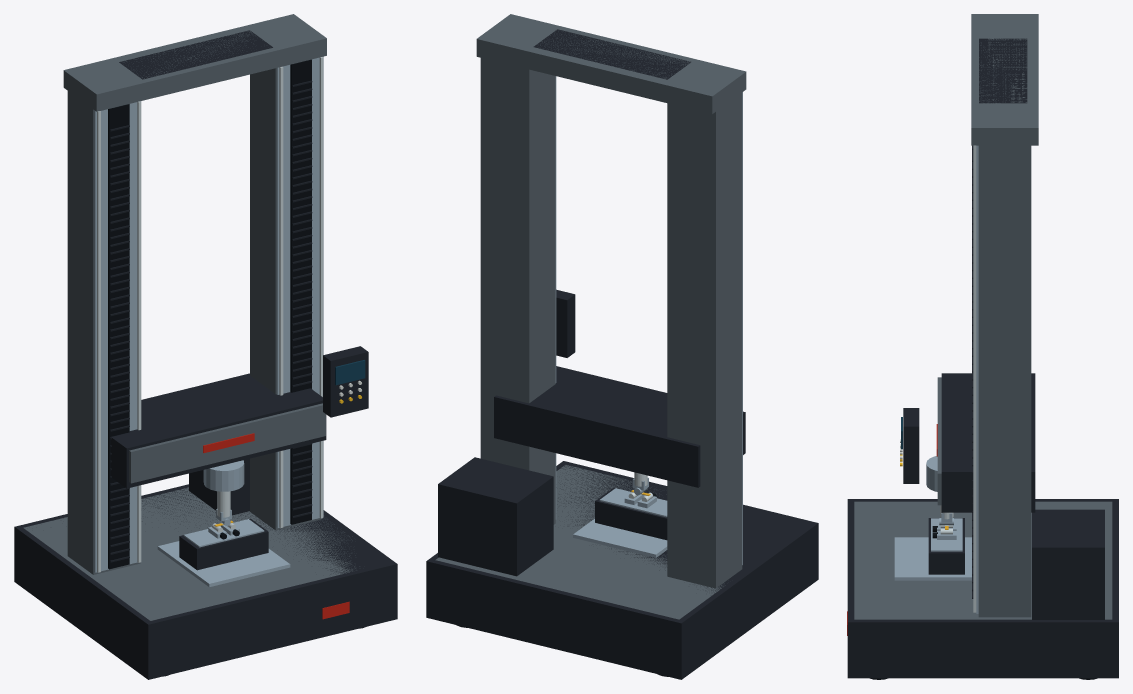
Rendered from instron-5969.glb.
The picture shows the model from 3 angles, left to right: view 1: azimuth 30°, elevation 25°; view 2: azimuth 150°, elevation 25°; view 3: azimuth 270°, elevation 25°; orthographic projection. The views are drawn at different scales.
Visible parts, largest first — view 1: frame, crosshead, panel, fixture; view 2: frame, crosshead, fixture, panel; view 3: frame, crosshead, fixture, panel.
Part boxes in pixels (left/top/right/bottom): frame: left=14, top=14, right=397, bottom=679; crosshead: left=111, top=373, right=326, bottom=491; panel: left=323, top=346, right=368, bottom=417; fixture: left=179, top=518, right=268, bottom=570; frame: left=426, top=14, right=818, bottom=679; crosshead: left=494, top=366, right=745, bottom=487; fixture: left=595, top=488, right=667, bottom=540; panel: left=556, top=289, right=575, bottom=357; frame: left=847, top=14, right=1118, bottom=679; crosshead: left=926, top=373, right=1035, bottom=512; fixture: left=928, top=518, right=964, bottom=574; panel: left=900, top=408, right=919, bottom=483.
Size of the model in its own units: 0.779 by 1.63 by 0.7265.
